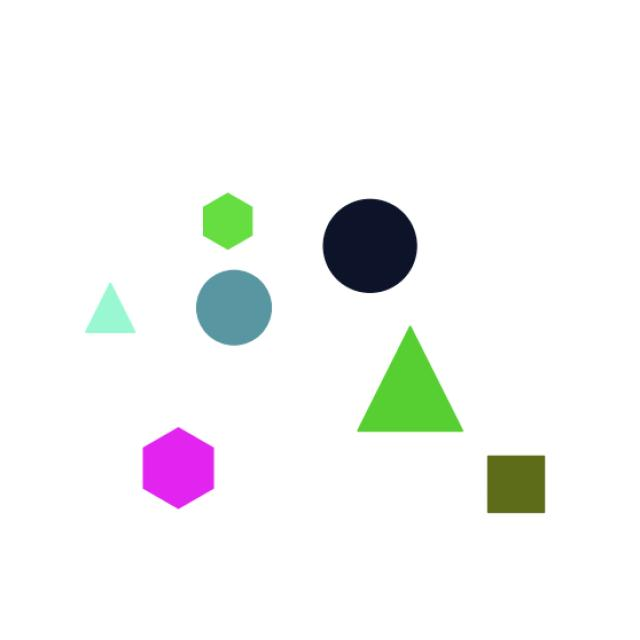Circle: (310, 190, 434, 312), (186, 272, 287, 349)
Hexagon: (118, 415, 245, 525), (179, 180, 261, 253)
Triangle: (333, 314, 493, 444), (69, 275, 143, 353)
square: (475, 448, 559, 522)
